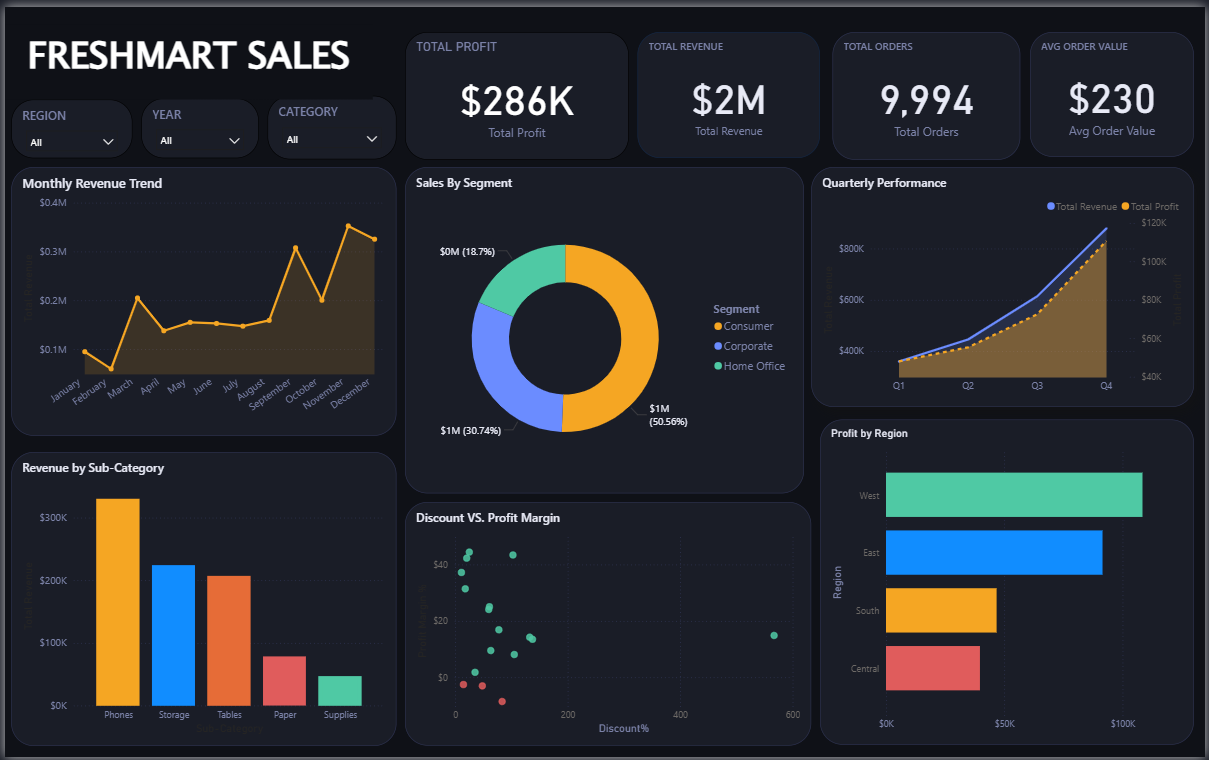

Layout of this report page (visuals, bound fields, positions):
{"tool":"powerbi","page":{"name":"Page 1","canvas":[1600,1000],"ordinal":0},"visuals":[{"type":"card","title":"TOTAL REVENUE","fields":{"Values":["Measures (2).Total Revenue"]},"box":[843.3,33.3,243.3,168.3],"z":0},{"type":"card","title":"TOTAL ORDERS","fields":{"Values":["Measures (2).Total Orders"]},"box":[1103.3,33.3,250,170],"z":1000},{"type":"card","title":"AVG ORDER VALUE","fields":{"Values":["Measures (2).Avg Order Value"]},"box":[1366.7,33.3,218.3,166.7],"z":2000},{"type":"lineChart","title":"Monthly Revenue Trend","fields":{"Category":["Calendar.Month Name"],"Y":["Measures (2).Total Revenue"]},"box":[8.3,213.3,513.3,358.3],"z":3000},{"type":"donutChart","title":"Sales By Segment","fields":{"Category":["Orders.Segment"],"Y":["Measures (2).Total Revenue"]},"box":[533.3,213.3,531.7,435],"z":4000},{"type":"clusteredBarChart","title":" Profit by Region","fields":{"Category":["Orders.Region"],"Y":["Measures (2).Total Profit"]},"box":[1086.7,550,498.3,433.3],"z":5000},{"type":"clusteredColumnChart","title":"Revenue by Sub-Category","fields":{"Y":["Measures (2).Total Revenue"],"Category":["Orders.Sub-Category"]},"box":[8.3,593.3,513.3,391.7],"z":6000},{"type":"scatterChart","title":"Discount VS. Profit Margin","fields":{"X":["Sum(Orders.Discount)"],"Y":["Measures (2).Profit Margin %"],"Category":["Orders.Sub-Category"]},"box":[533.3,660,541.7,325],"z":7000},{"type":"areaChart","title":"Quarterly Performance","fields":{"Category":["Calendar.Ouarter"],"Y":["Measures (2).Total Revenue"],"Y2":["Measures (2).Total Profit"]},"box":[1075,213.3,510,320],"z":8000},{"type":"tableEx","title":"TOP PRODUCTS BY REVENUE","fields":{"Values":["Orders.Product Name","Orders.Category","Orders.Region","Measures (2).Total Revenue","Sum(Orders.Quantity)","Measures (2).Profit Margin %"]},"box":[7,1089,825,383],"z":9000},{"type":"slicer","title":"YEAR","fields":{"Values":["Calendar.Year"]},"box":[181.7,121.7,156.7,80],"z":10000},{"type":"slicer","title":"CATEGORY","fields":{"Values":["Orders.Category"]},"box":[350,118.3,171.7,85],"z":11000},{"type":"slicer","title":"REGION","fields":{"Values":["Orders.Region"]},"box":[8.3,123.3,161.7,78.3],"z":12000},{"type":"textbox","box":[0,23.3,490,100],"z":13000},{"type":"card","title":"TOTAL PROFIT","fields":{"Values":["Measures (2).Total Profit"]},"box":[533.3,33.3,298.3,170],"z":14000}]}

Visuals, with their boxes in screenshot pixels (x1, y1, x2, y2), scaled from the page's 1600x1000 canvas onto the 1209x760 screenshot:
"TOTAL REVENUE" card: [637, 25, 821, 153]
"TOTAL ORDERS" card: [834, 25, 1023, 155]
"AVG ORDER VALUE" card: [1033, 25, 1198, 152]
"Monthly Revenue Trend" lineChart: [6, 162, 394, 434]
"Sales By Segment" donutChart: [403, 162, 805, 493]
" Profit by Region" clusteredBarChart: [821, 418, 1198, 747]
"Revenue by Sub-Category" clusteredColumnChart: [6, 451, 394, 749]
"Discount VS. Profit Margin" scatterChart: [403, 502, 812, 749]
"Quarterly Performance" areaChart: [812, 162, 1198, 405]
"YEAR" slicer: [137, 92, 256, 153]
"CATEGORY" slicer: [264, 90, 394, 155]
"REGION" slicer: [6, 94, 128, 153]
textbox: [0, 18, 370, 94]
"TOTAL PROFIT" card: [403, 25, 628, 155]
